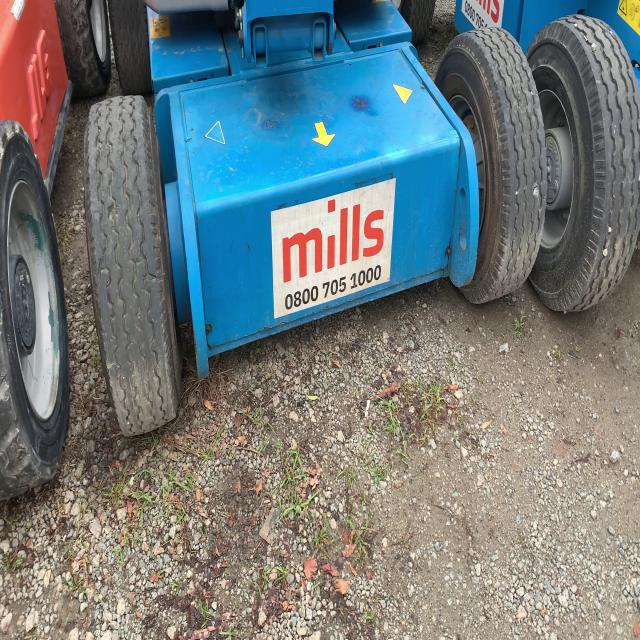Adesivos: (269, 174, 397, 321)
